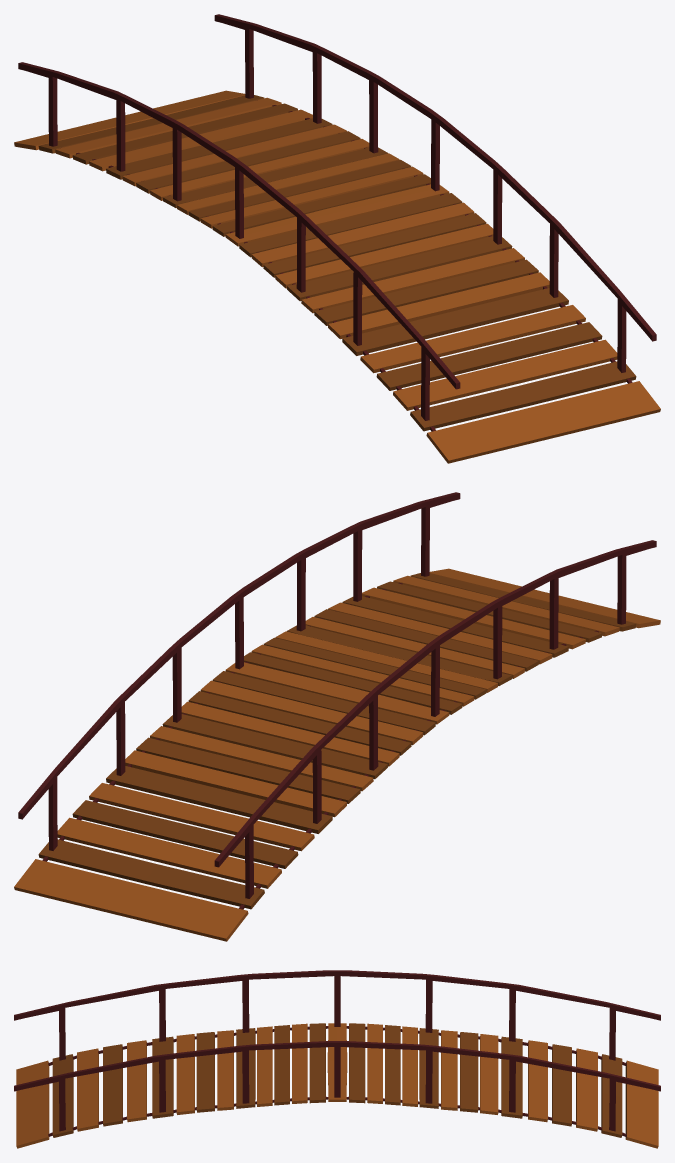
File: brug (1).fbx
3 renders of one model, top to bottom at view 1: azimuth 30°, elevation 25°; view 2: azimuth 150°, elevation 25°; view 3: azimuth 270°, elevation 25°, orthographic. The views are drawn at different scales.
Parts seen in each view (by area): view 1: Cube.002; view 2: Cube.002; view 3: Cube.002.
Part boxes in pixels (left/top/right/bottom): Cube.002: left=14, top=14, right=660, bottom=463; Cube.002: left=14, top=492, right=660, bottom=941; Cube.002: left=14, top=970, right=660, bottom=1148.
Size of the model in its own units: 5.7 by 3.62 by 20.37.
